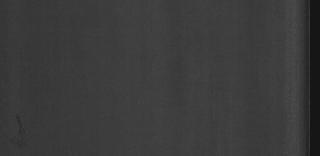water spot: (6, 112, 34, 148)
